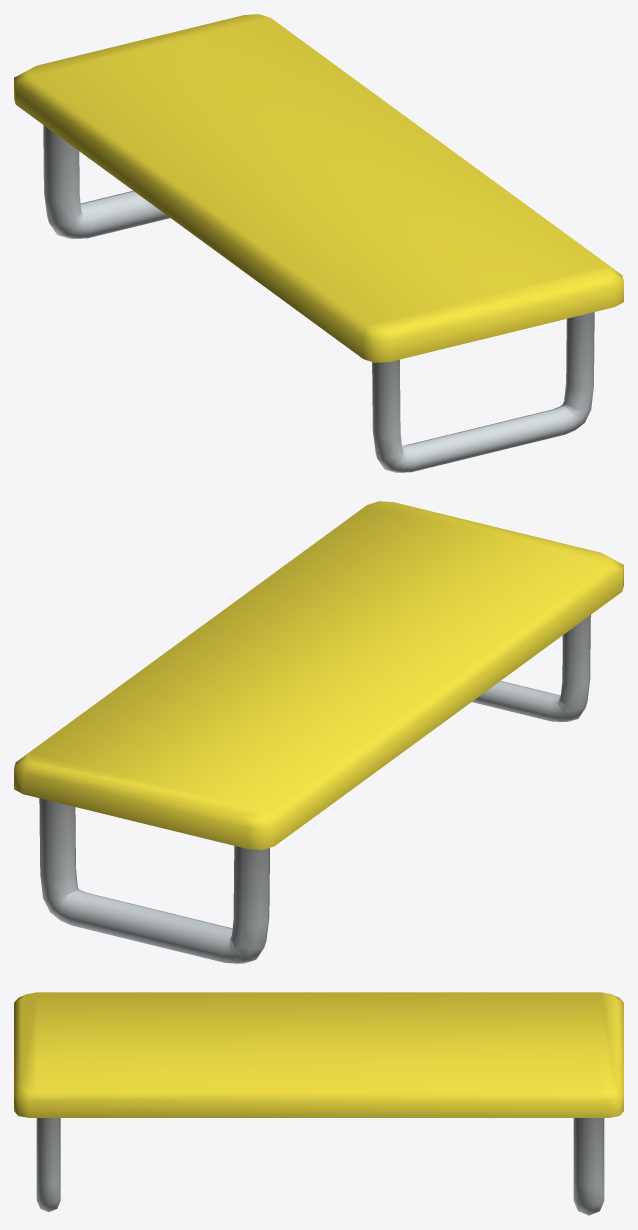
The model's file is table.fbx.
The picture shows the model from 3 angles, top to bottom: view 1: azimuth 30°, elevation 25°; view 2: azimuth 150°, elevation 25°; view 3: azimuth 270°, elevation 25°; orthographic projection. The views are drawn at different scales.
Parts seen in each view (by area): view 1: gift wrap table; view 2: gift wrap table; view 3: gift wrap table.
Part boxes in pixels (x1=…): gift wrap table: x1=14, y1=14, x2=623, y2=472; gift wrap table: x1=14, y1=501, x2=623, y2=963; gift wrap table: x1=14, y1=992, x2=623, y2=1215.
Bounding box in the file's own units: 2.69 × 1.66 × 6.61.
